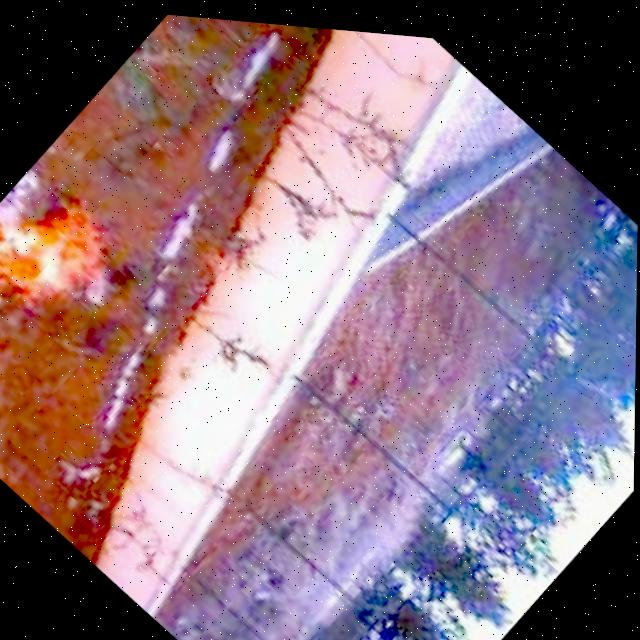Fire: (0, 157, 136, 377)
